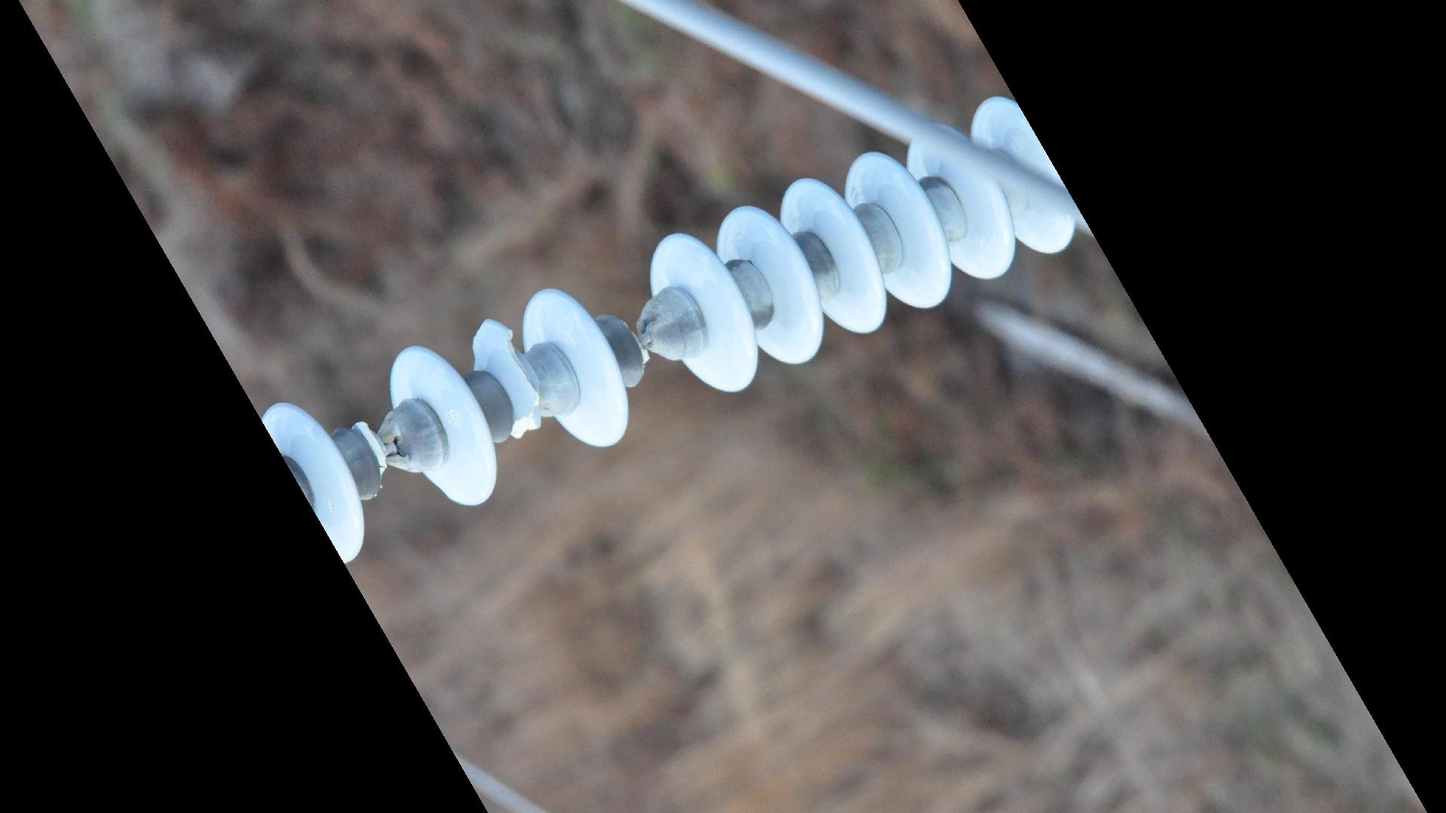insulator: (643, 90, 1081, 402), (382, 279, 637, 513), (252, 394, 374, 583)
insulator_breakage: (465, 303, 546, 449)
